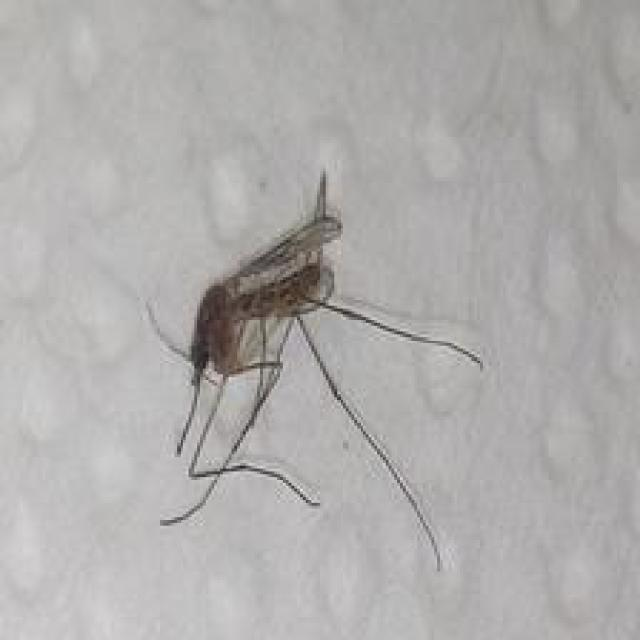Culex: (144, 166, 484, 571)
